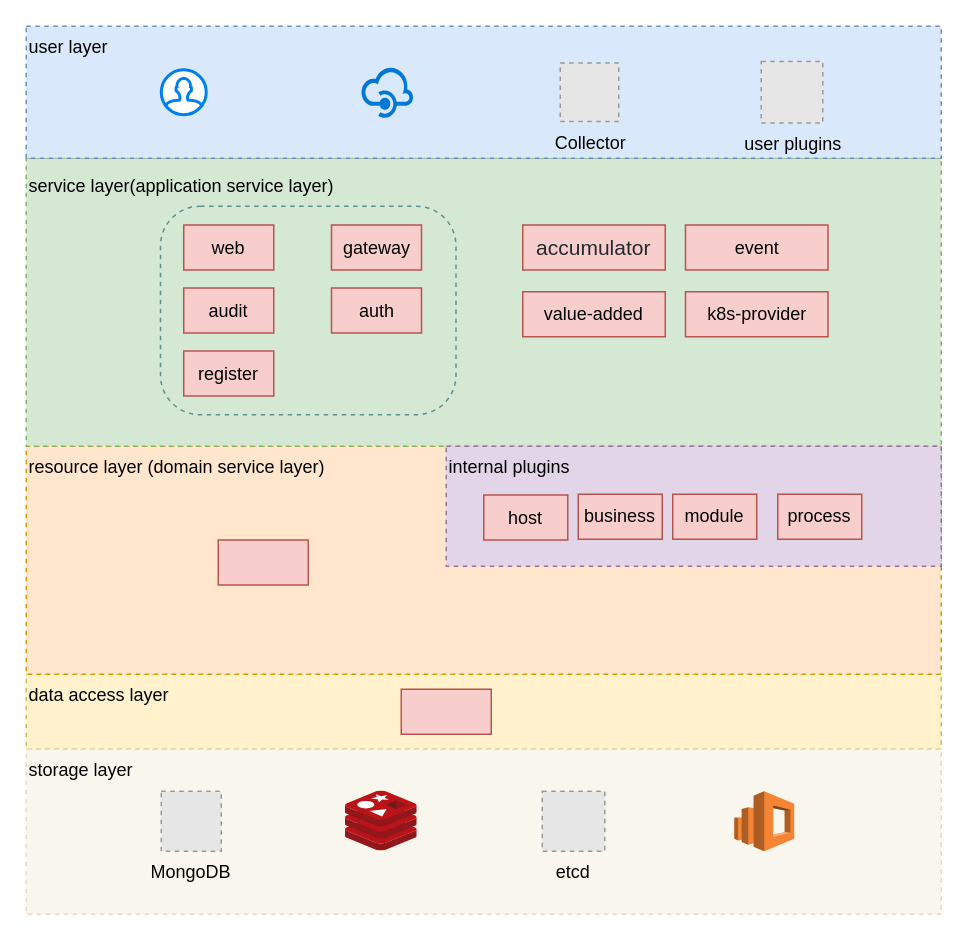
Image size: 968x941. Some labels were removed from this diagram. Grey dashed boxes stand in for pictures. The centre of each missing label's shape, as x and y in pixels:
API: point (386, 91)
core: point (262, 561)
els: point (763, 820)
Redis: point (381, 820)
TM: point (445, 711)
UI: point (183, 92)
